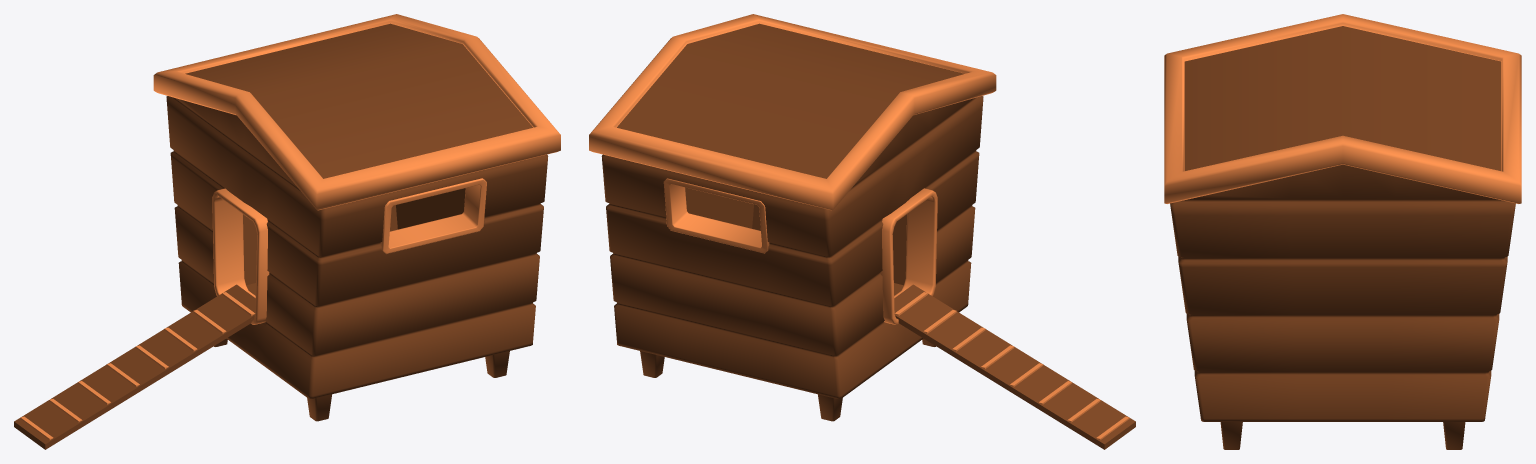
Rendered from Galinheiro.fbx.
3 renders of one model, left to right at view 1: azimuth 30°, elevation 25°; view 2: azimuth 150°, elevation 25°; view 3: azimuth 270°, elevation 25°, orthographic. The views are drawn at different scales.
Parts seen in each view (by area): view 1: Cube; view 2: Cube; view 3: Cube.
Boxes of the visible parts, x1,y1,x2,y2 form: Cube: (14, 14, 560, 449); Cube: (589, 14, 1135, 449); Cube: (1164, 14, 1521, 449).
Bounding box in the file's own units: 401 × 249 × 252.
